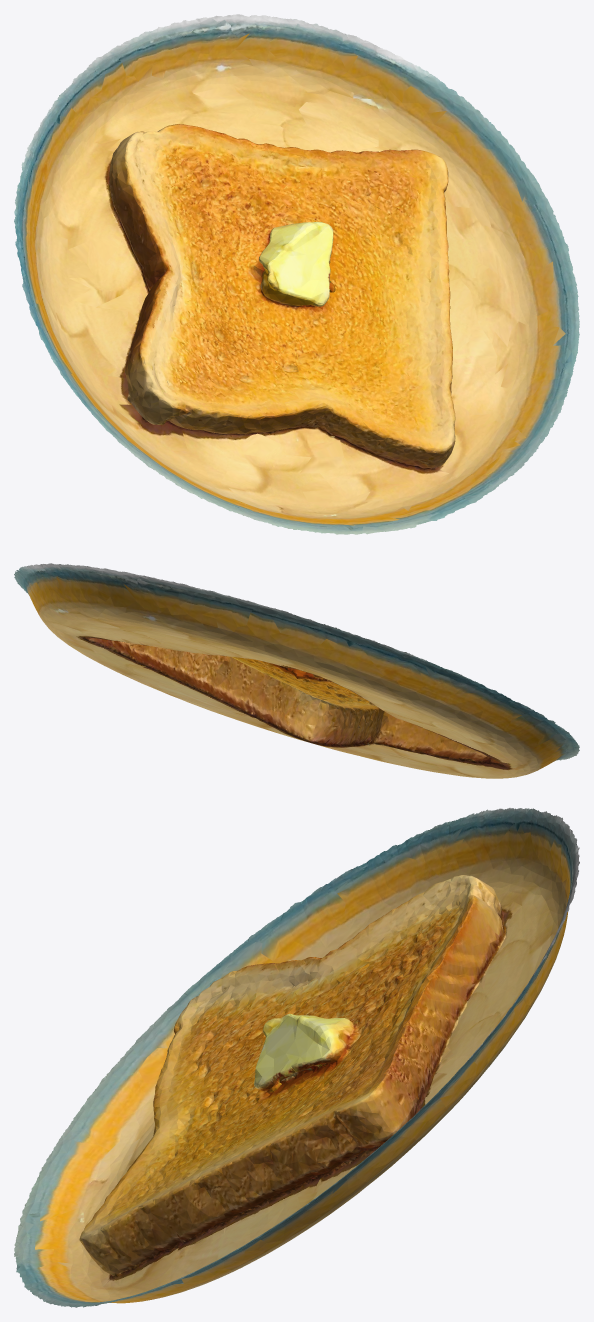
File: Toast_Butter.fbx
3 renders of one model, top to bottom at view 1: azimuth 30°, elevation 25°; view 2: azimuth 150°, elevation 25°; view 3: azimuth 270°, elevation 25°, orthographic. The views are drawn at different scales.
Parts seen in each view (by area): view 1: Toast_Butter_tex_high; view 2: Toast_Butter_tex_high; view 3: Toast_Butter_tex_high.
Boxes of the visible parts, <box> form: Toast_Butter_tex_high: <box>14,14,579,534</box>; Toast_Butter_tex_high: <box>14,563,579,778</box>; Toast_Butter_tex_high: <box>14,808,579,1307</box>.
Size of the model in its own units: 18.64 by 11.48 by 14.79.
